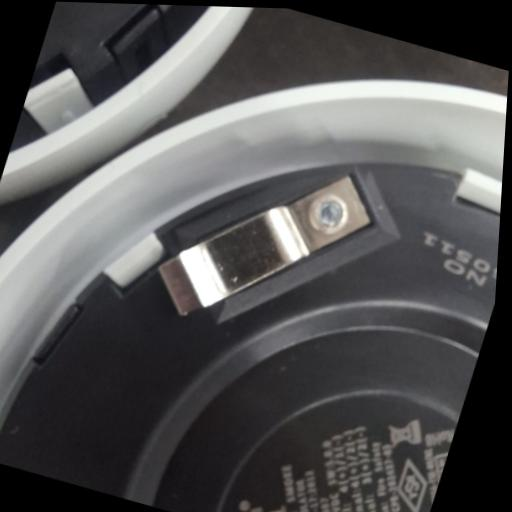yayli: (140, 129, 392, 363)
